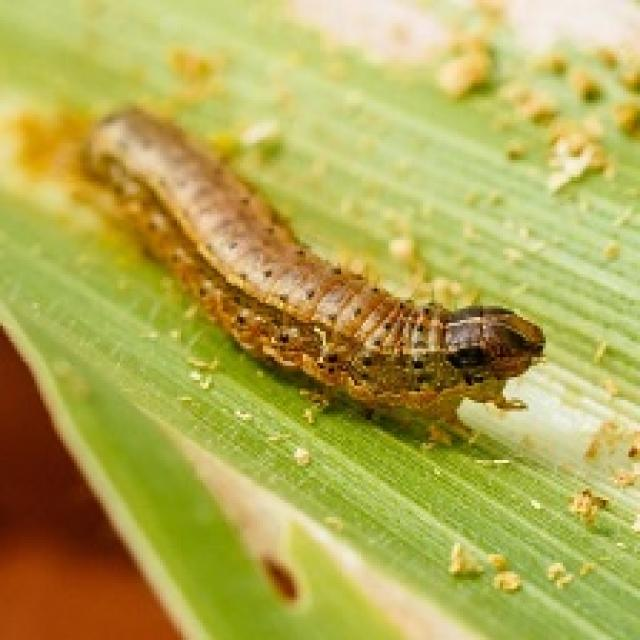Fall-armyworm: (90, 110, 547, 439)
